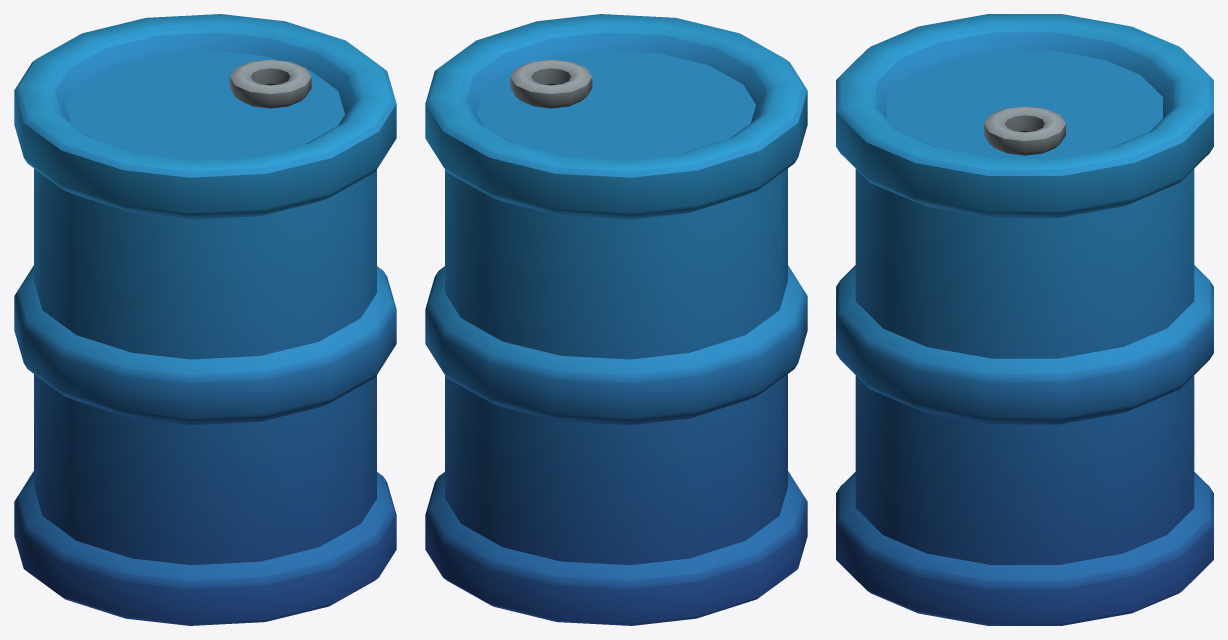
The model's file is fuel_c_barrel.glb.
3 views of the same model, side by side, from view 1: azimuth 30°, elevation 25°; view 2: azimuth 150°, elevation 25°; view 3: azimuth 270°, elevation 25° (orthographic).
Parts seen in each view (by area): view 1: Fuel_C_Barrel; view 2: Fuel_C_Barrel; view 3: Fuel_C_Barrel.
Boxes of the visible parts, x1=… form: Fuel_C_Barrel: x1=14, y1=14, x2=396, y2=625; Fuel_C_Barrel: x1=425, y1=14, x2=807, y2=625; Fuel_C_Barrel: x1=836, y1=14, x2=1213, y2=625.
Bounding box in the file's own units: 0.45 × 0.6045 × 0.45.
Materials: 1 (1 with a texture image).
